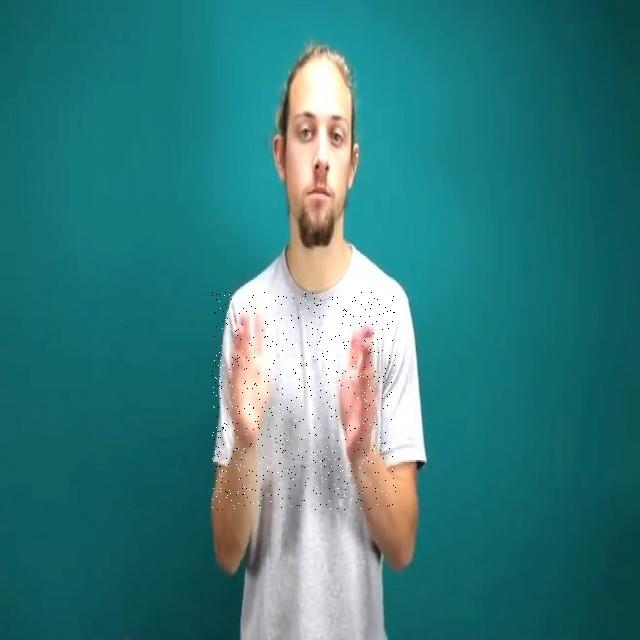small: (212, 292, 396, 510)
